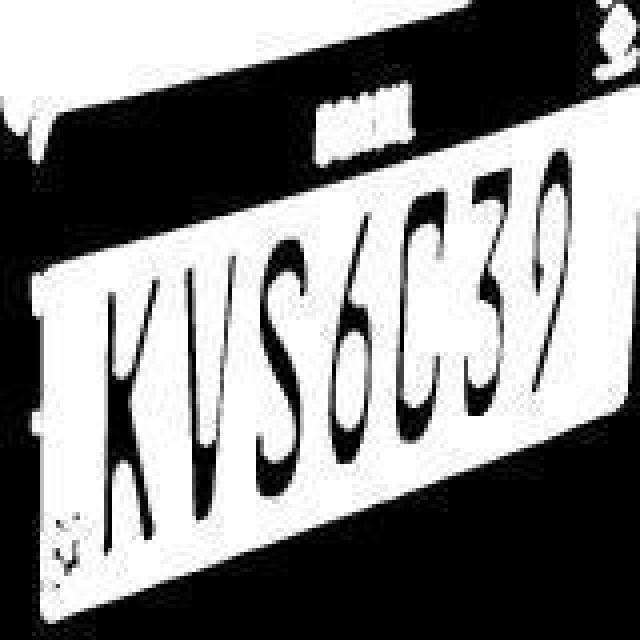3: (458, 164, 518, 436)
6: (320, 206, 376, 490)
9: (518, 140, 578, 412)
C: (386, 182, 446, 458)
K: (94, 280, 154, 576)
S: (234, 244, 318, 524)
V: (164, 256, 236, 536)
